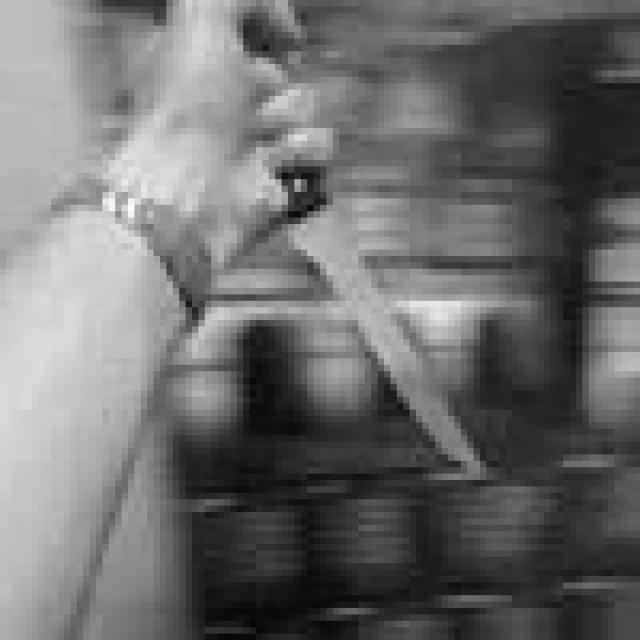knife: (280, 178, 484, 473)
